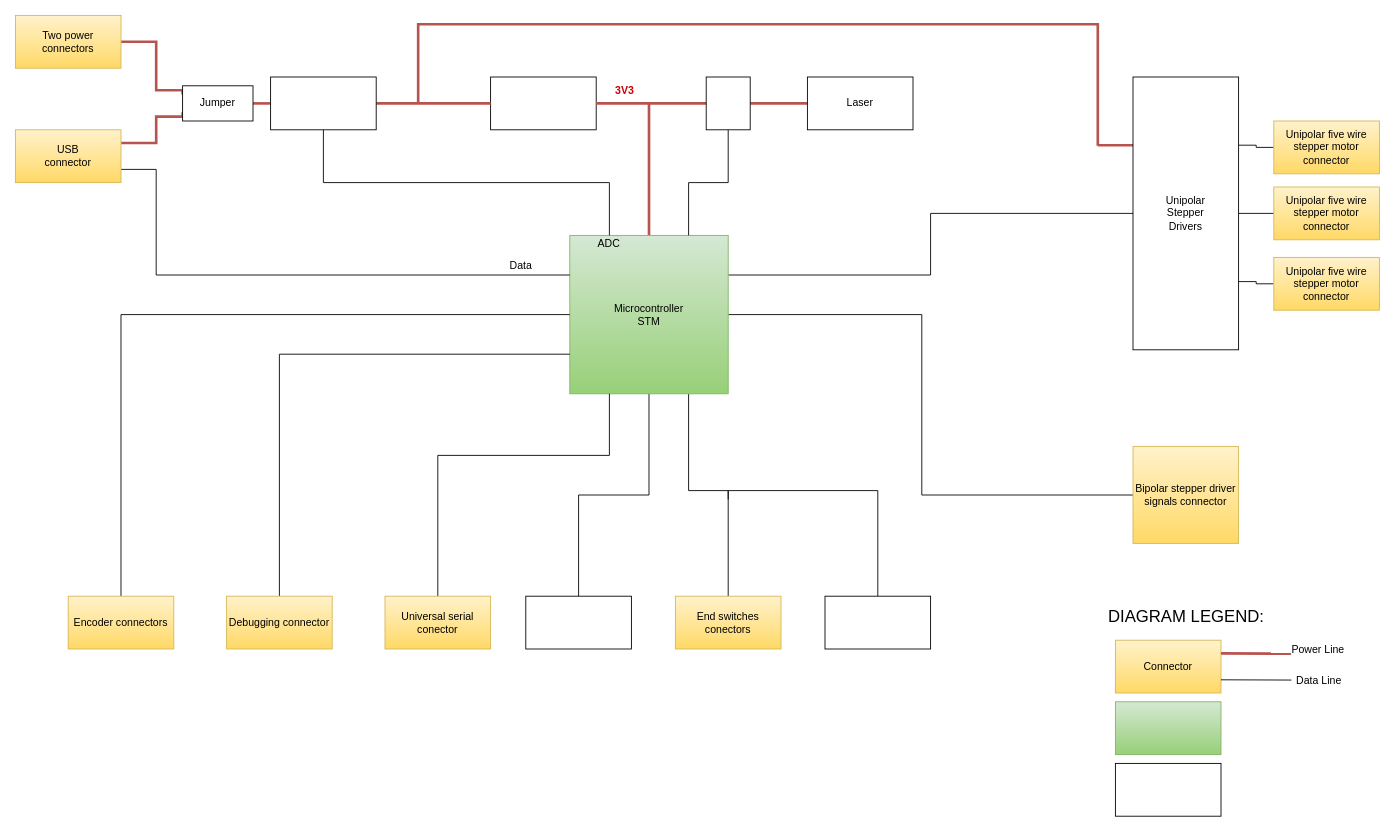
The diagram is 1395 pixels wide and 832 high, and some of its shapes have lost their labels. Here are the shapes that lost their labels. From the top down, the box of each, then its label:
(270, 76, 376, 130): Current mesurment
(490, 76, 596, 130): Power supplay
(705, 76, 750, 130): Laser switch
(525, 595, 631, 649): Two signal LED's
(824, 595, 931, 649): Two limit push buttons
(1115, 701, 1221, 755): MCU
(1115, 763, 1221, 816): OTHER BLOCKS
